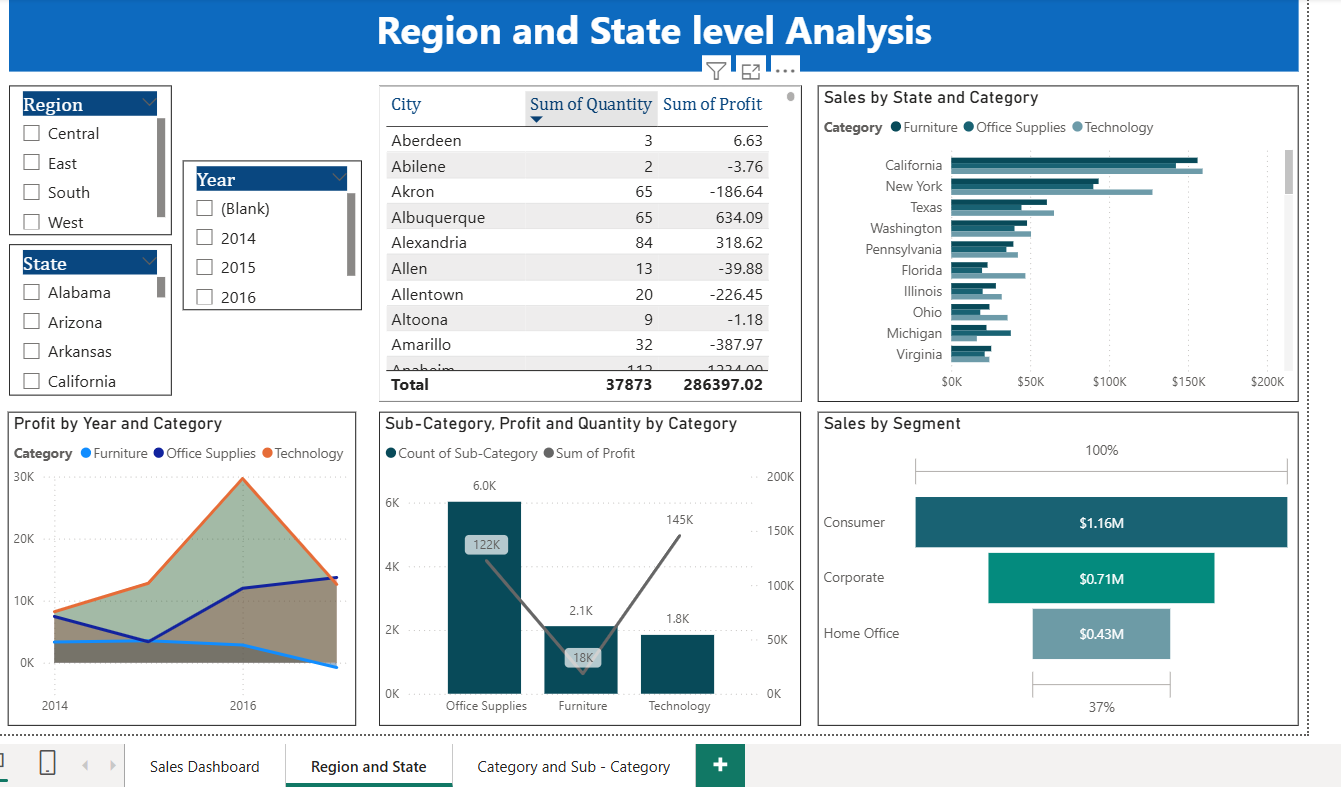

This screenshot's page, from the dashboard's own definition file:
{"tool":"powerbi","page":{"name":"Region and State","canvas":[1280,720],"ordinal":1},"visuals":[{"type":"textbox","box":[9.8,0,1262,72.1],"z":0},{"type":"slicer","fields":{"Values":["Sample - Superstore.Region"]},"box":[9.8,85.6,159,146.7],"z":1000},{"type":"slicer","fields":{"Values":["Sample - Superstore.State"]},"box":[9.8,240.9,159,148],"z":2000},{"type":"slicer","fields":{"Values":["Sample - Superstore.Year"]},"box":[179.8,159,174.9,146.7],"z":3000},{"type":"tableEx","fields":{"Values":["Sample - Superstore.City","Sum(Sample - Superstore.Quantity)","Sum(Sample - Superstore.Profit)"]},"box":[371.7,85.6,413.3,309.4],"z":4000},{"type":"clusteredBarChart","title":" Sales by State and Category","fields":{"Category":["Sample - Superstore.State"],"Series":["Sample - Superstore.Category"],"Y":["Sum(Sample - Superstore.Sales)"]},"box":[801,85.6,470.8,309.4],"z":5000},{"type":"areaChart","title":"Profit by Year and Category","fields":{"Category":["Sample - Superstore.Year"],"Y":["Sum(Sample - Superstore.Profit)"],"Series":["Sample - Superstore.Category"]},"box":[8.6,404.8,341.2,306.9],"z":6000},{"type":"lineClusteredColumnComboChart","title":" Sub-Category, Profit and Quantity by Category","fields":{"Category":["Sample - Superstore.Category"],"Y":["CountNonNull(Sample - Superstore.Sub-Category)"],"Y2":["Sum(Sample - Superstore.Profit)"]},"box":[372,405,413,307],"z":7000},{"type":"funnel","title":" Sales by Segment","fields":{"Category":["Sample - Superstore.Segment"],"Y":["Sum(Sample - Superstore.Sales)"]},"box":[801,404.8,470.8,306.9],"z":8000}]}

Visuals, with their boxes in screenshot pixels (x1, y1, x2, y2):
textbox: crop(0, 0, 1304, 68)
slicer - Sample - Superstore.Region: crop(0, 81, 164, 233)
slicer - Sample - Superstore.State: crop(0, 242, 164, 395)
slicer - Sample - Superstore.Year: crop(175, 157, 356, 309)
tableEx - Sample - Superstore.City x Sum(Sample - Superstore.Quantity): crop(374, 81, 801, 401)
" Sales by State and Category" clusteredBarChart: crop(817, 81, 1304, 401)
"Profit by Year and Category" areaChart: crop(0, 411, 351, 728)
" Sub-Category, Profit and Quantity by Category" lineClusteredColumnComboChart: crop(374, 411, 801, 729)
" Sales by Segment" funnel: crop(817, 411, 1304, 728)
